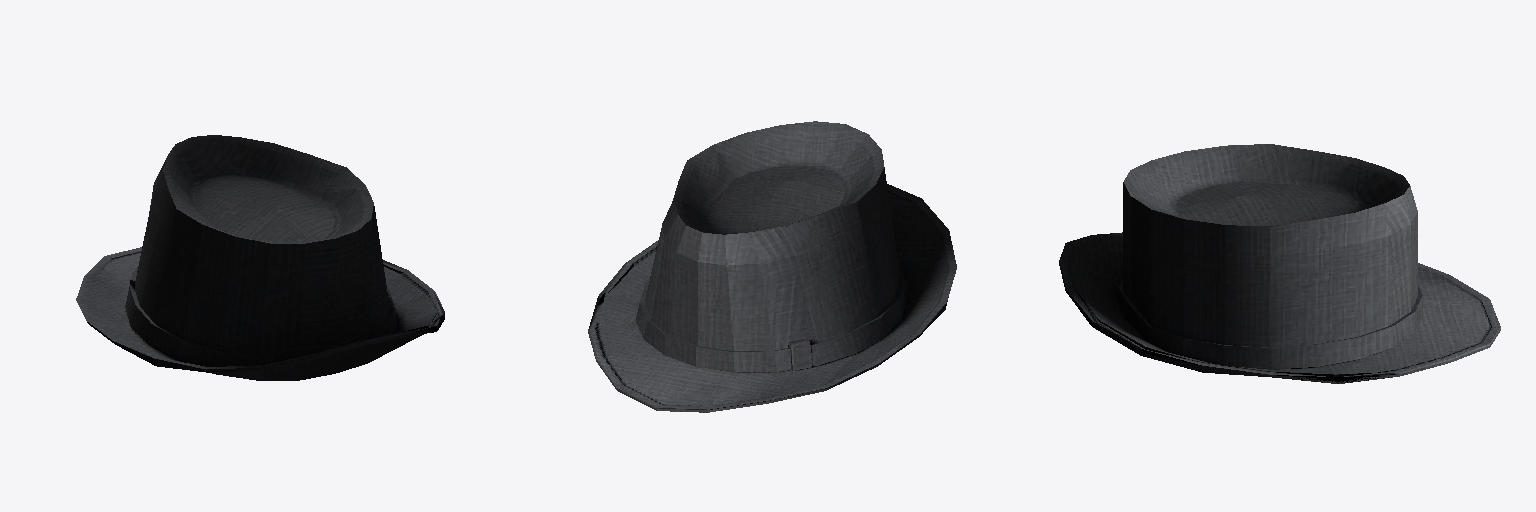
The picture shows the model from 3 angles: view 1: azimuth 30°, elevation 25°; view 2: azimuth 150°, elevation 25°; view 3: azimuth 270°, elevation 25°; orthographic projection.
Parts seen in each view (by area): view 1: polySurface1_Untitled; view 2: polySurface1_Untitled; view 3: polySurface1_Untitled.
Boxes of the visible parts, <box> form: polySurface1_Untitled: <box>76,135,444,380</box>; polySurface1_Untitled: <box>588,121,956,412</box>; polySurface1_Untitled: <box>1059,144,1500,383</box>.
Bounding box in the file's own units: 0.0917 × 0.0442 × 0.1188.
1 materials, 1 textured.